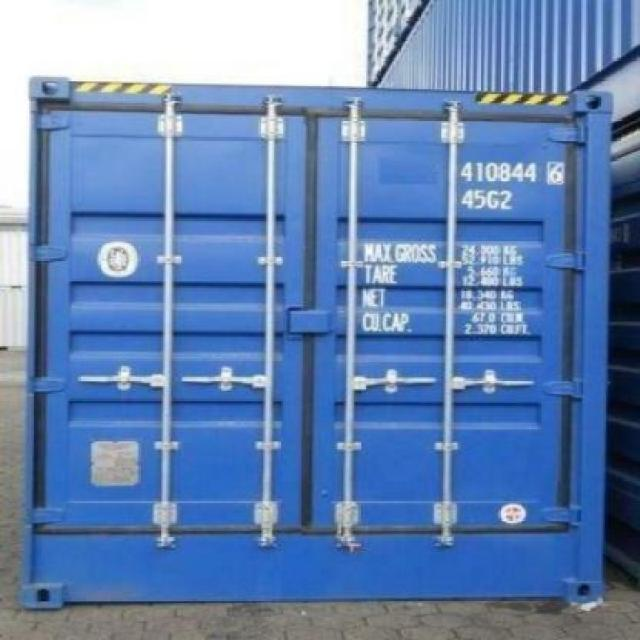ISO: (462, 188, 512, 210)
container_number: (458, 163, 562, 183)
